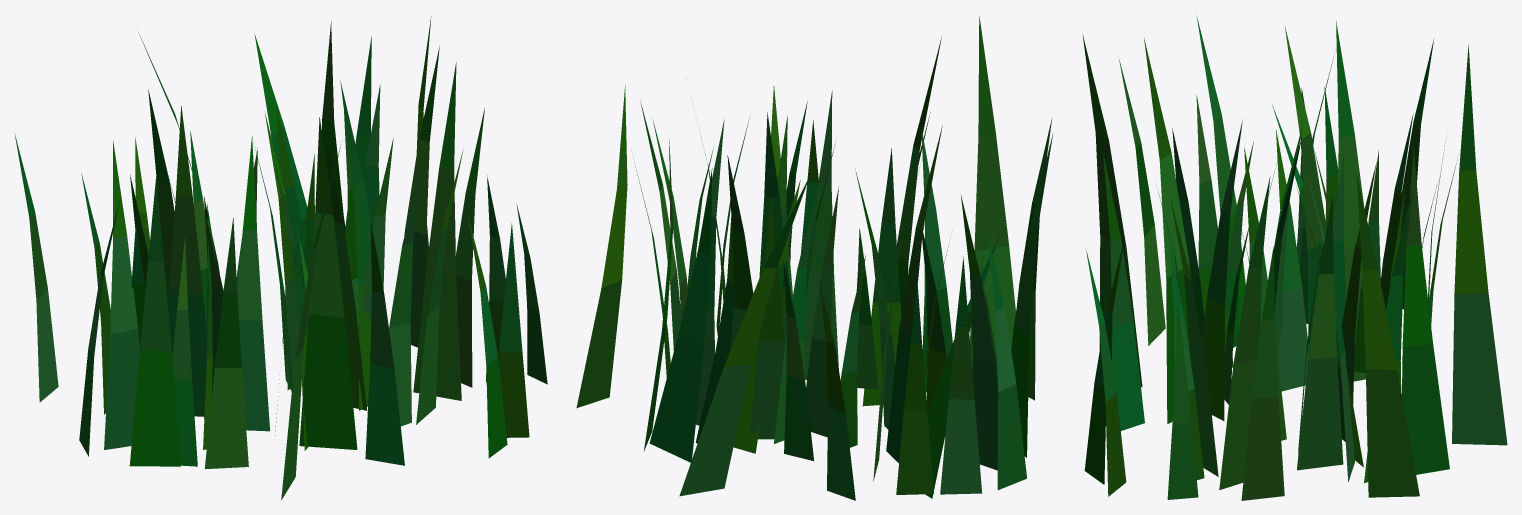
Rendered from GrassPatch02.glb.
3 renders of one model, left to right at view 1: azimuth 30°, elevation 25°; view 2: azimuth 150°, elevation 25°; view 3: azimuth 270°, elevation 25°, orthographic. The views are drawn at different scales.
Visible parts, largest first — view 1: GrassPatch02; view 2: GrassPatch02; view 3: GrassPatch02.
Boxes of the visible parts, x1=… form: GrassPatch02: x1=14, y1=16, x2=547, y2=499; GrassPatch02: x1=576, y1=16, x2=1052, y2=500; GrassPatch02: x1=1082, y1=16, x2=1507, y2=500.
Size of the model in its own units: 0.5058 by 0.4465 by 0.4516.
